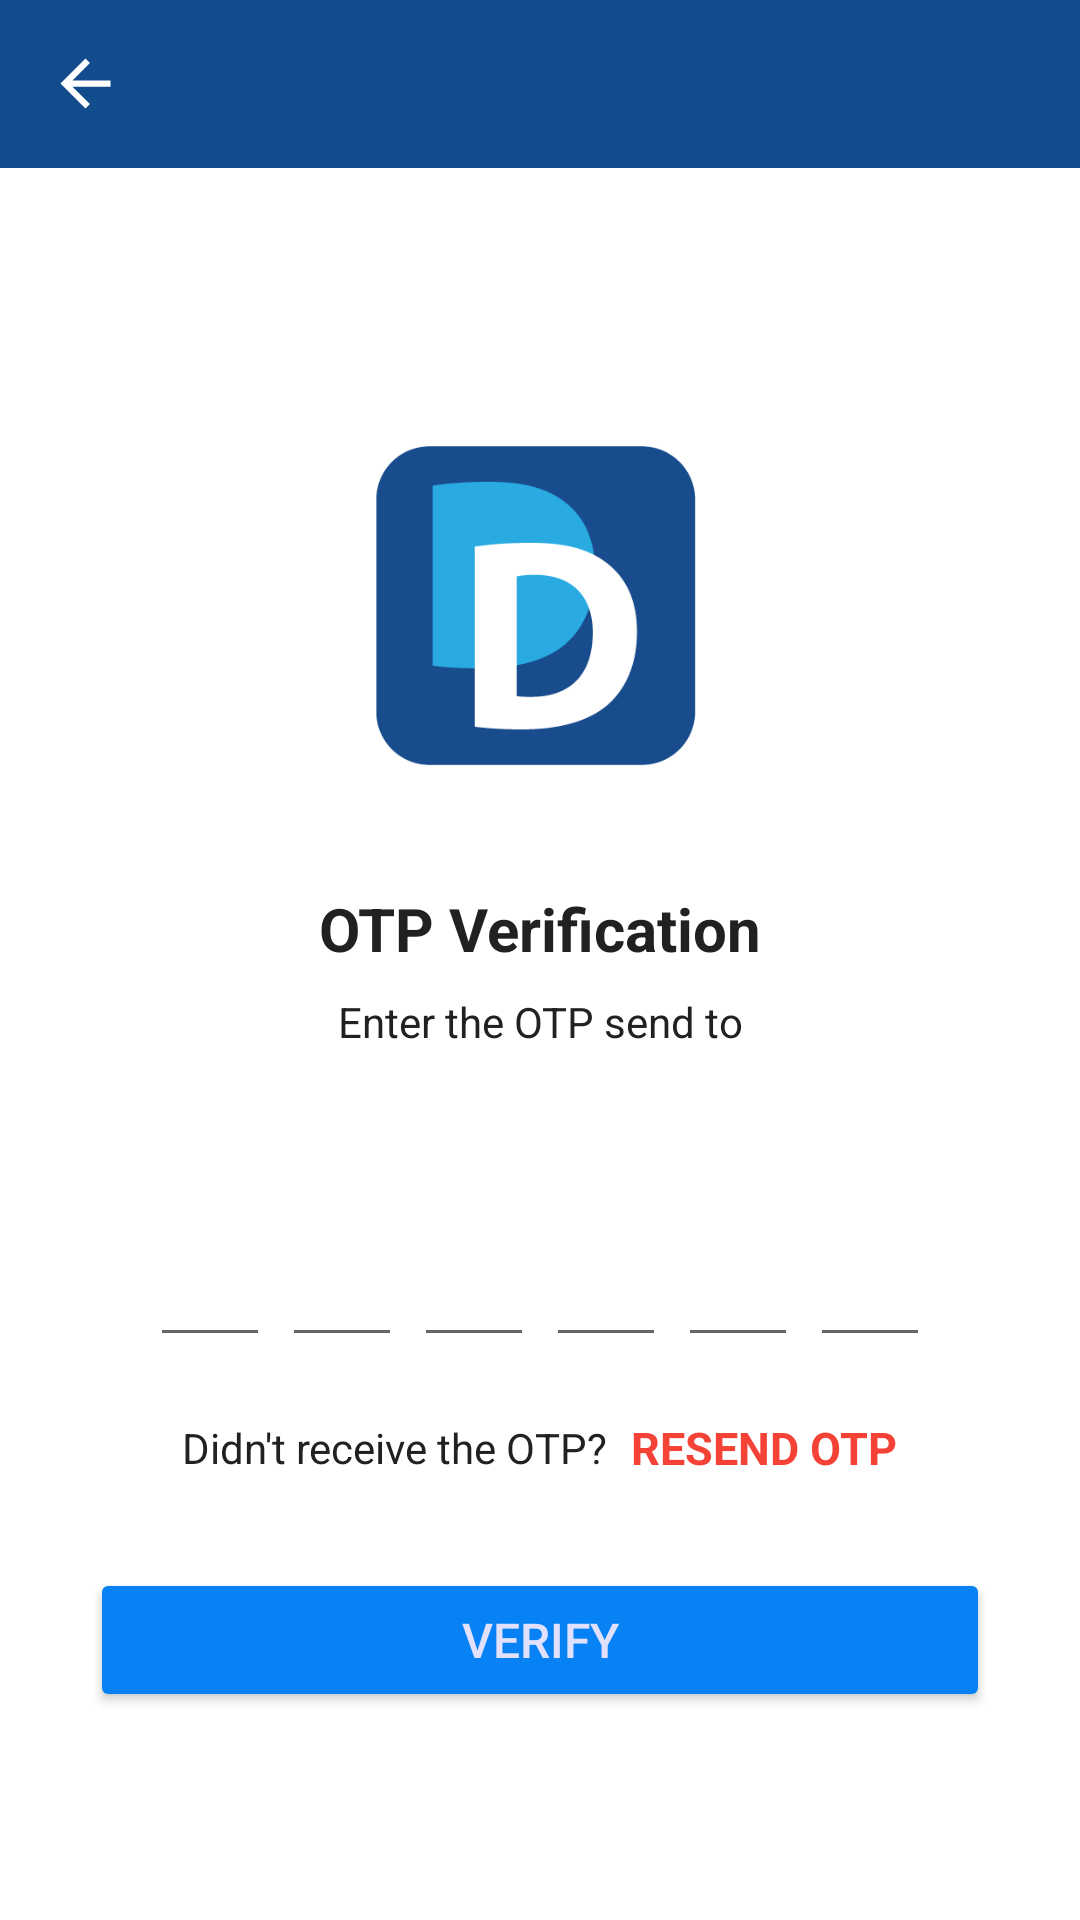

Screen size 1080px x 1920px. Icon name, then its center in pixels as point (x, y):
arrow: point (85, 83)
